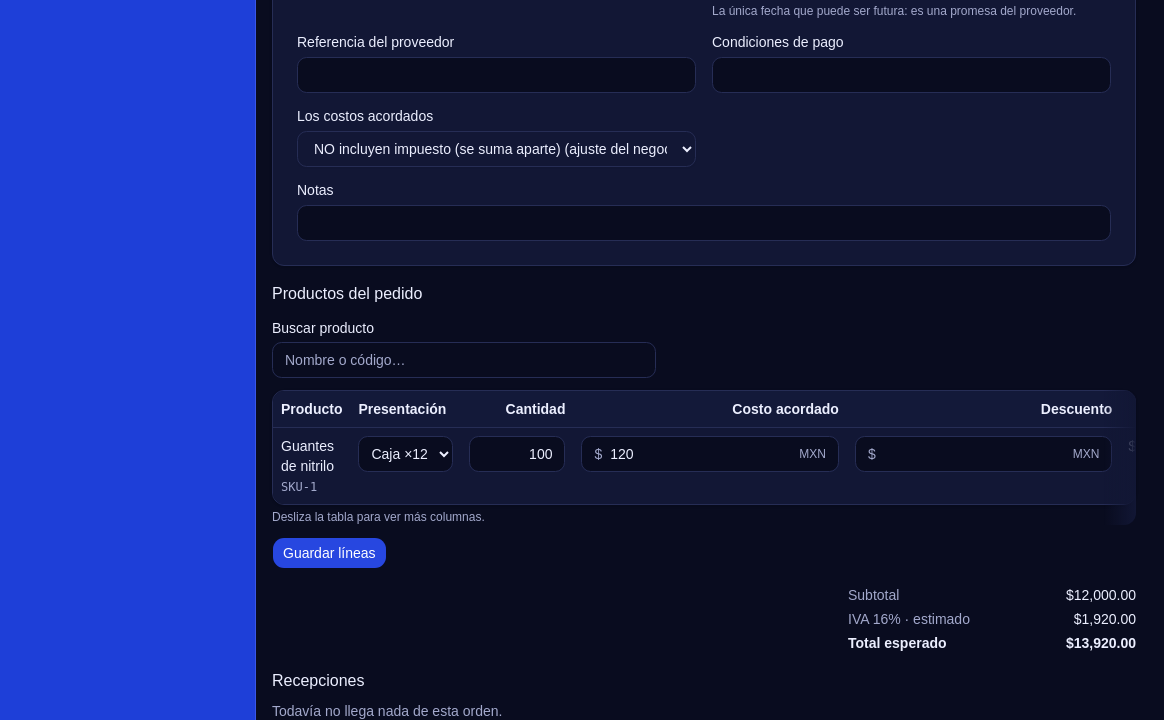
Test case: Órdenes de compra — la ficha (F9-PO-12/13) › al agregar un producto, el último costo con ESTE proveedor gana al del catálogo y se dice de dónde viene
This screenshot has width=1164, height=720.
(page scrolled)
Step 1. Type "gas" into the search field labelled "Buscar producto" → x=464, y=360, box [272,342,656,378]
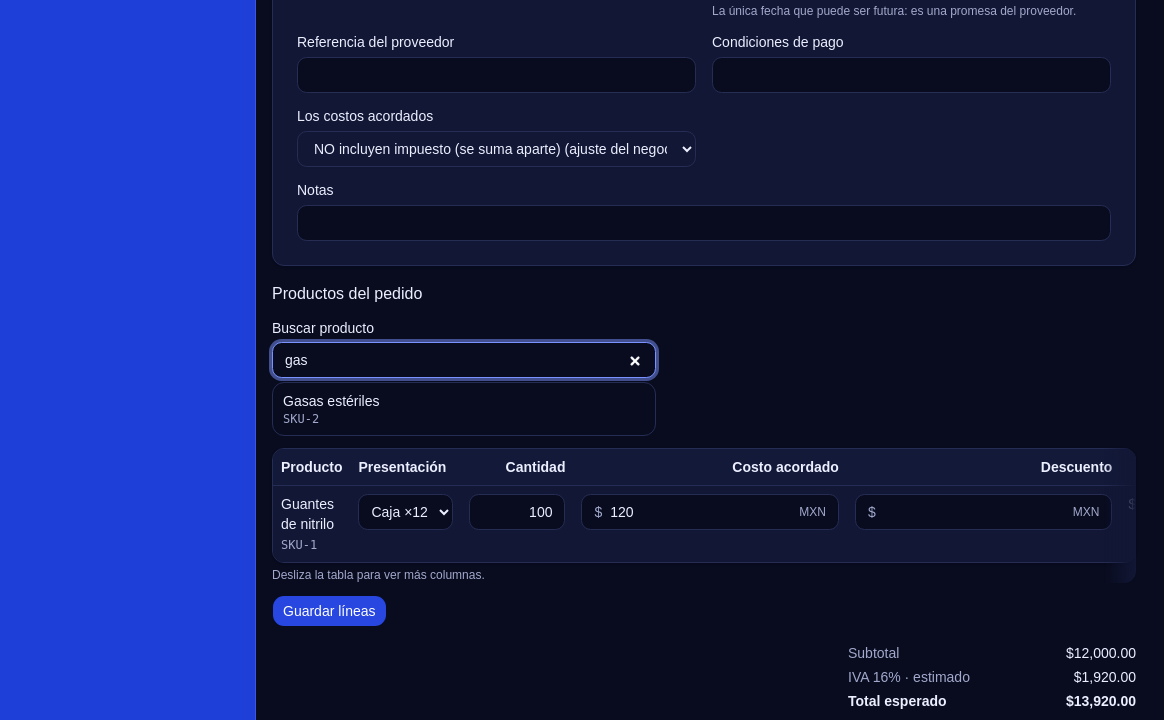
Step 2. Click the button with test id "add-product-prod-2" → x=331, y=401, box [272,382,656,436]
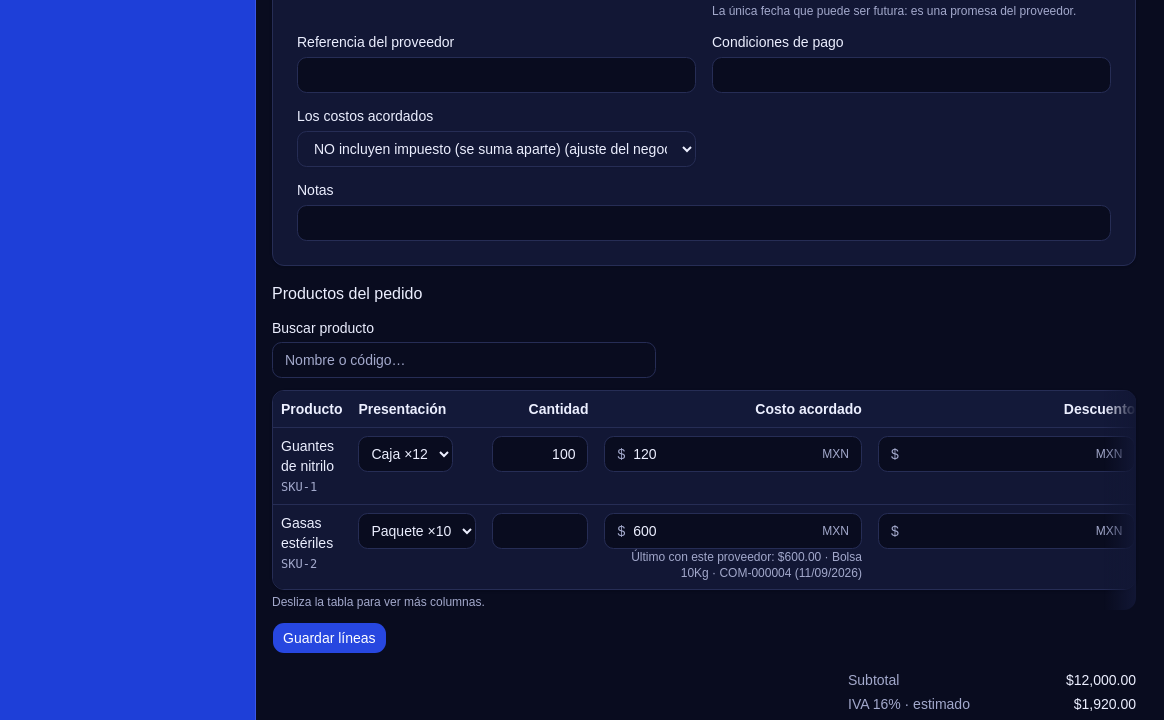
Expected: the field named "Costo acordado" in the row of "Gasas estériles" holds "600", [633,521,814,541]
Expected: the text with test id "last-cost-1" shows "Último con este proveedor: $600.00 · Bolsa 10Kg · COM-000004", [631,550,862,580]
